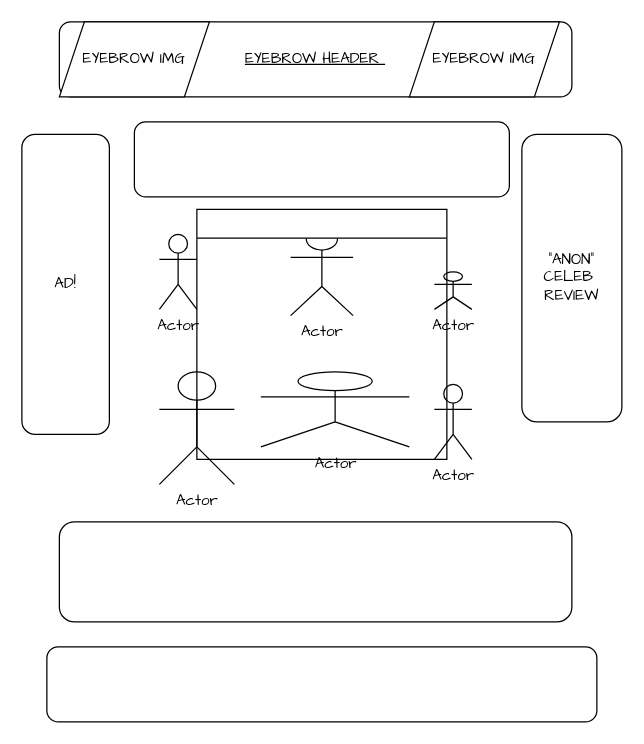
This 644x744 diagram has some shape labels left out. The centre of each missing label's shape, as x and y in pixels:
"LOCATIONS" goes at pixel 315 571.
"MISSION STATEMENT" goes at pixel 321 159.
"SERVICES" goes at pixel 321 684.
"Vertical Container" goes at pixel 321 333.
